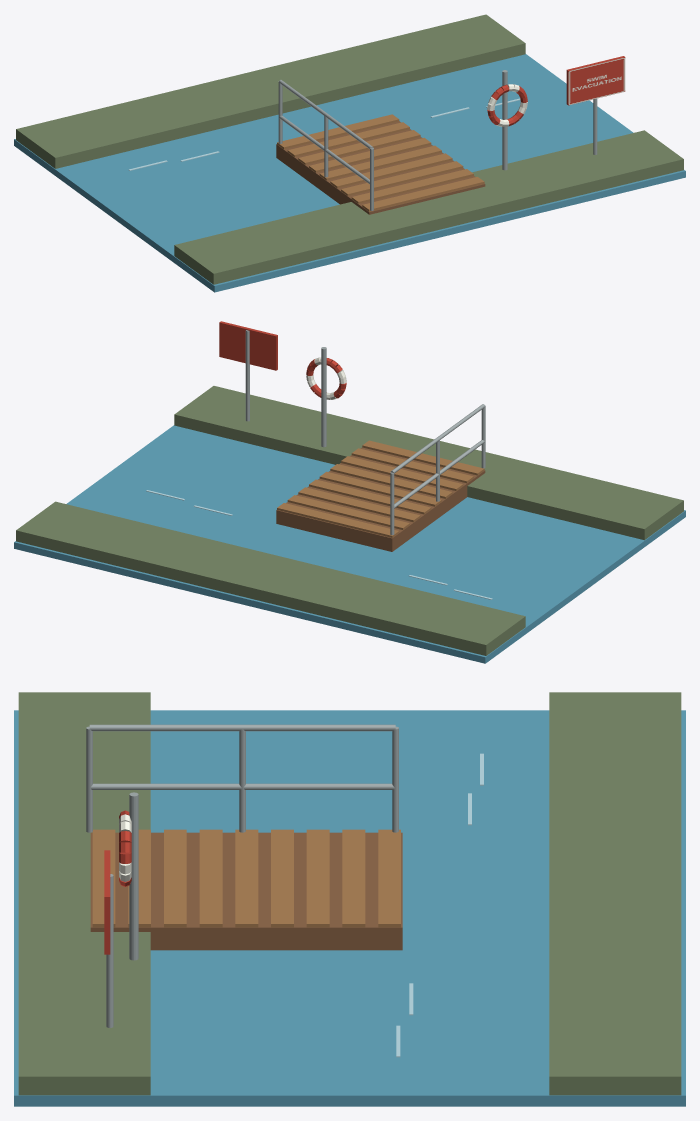
Rendered from scendance-plan-swim-evacuation-point.glb.
3 renders of one model, top to bottom at view 1: azimuth 30°, elevation 25°; view 2: azimuth 150°, elevation 25°; view 3: azimuth 270°, elevation 25°, orthographic. The views are drawn at different scales.
Bounding box in the file's own units: 7.6 × 1.78 × 5.6.
10 materials, 1 textured.
